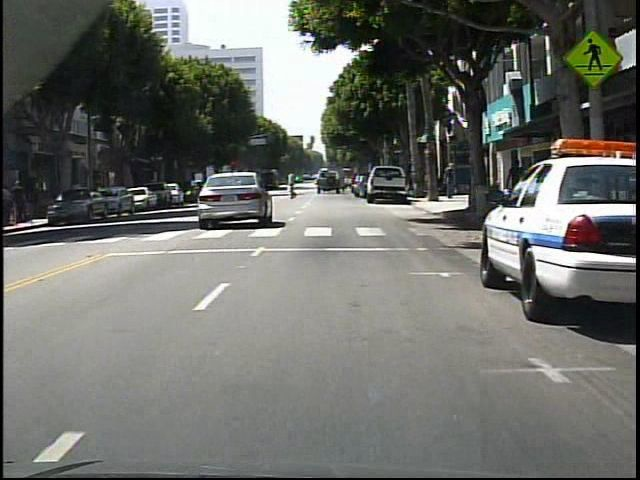person: (502, 158, 524, 217), (442, 161, 459, 201), (14, 180, 28, 226), (2, 186, 15, 226), (285, 170, 301, 200)
